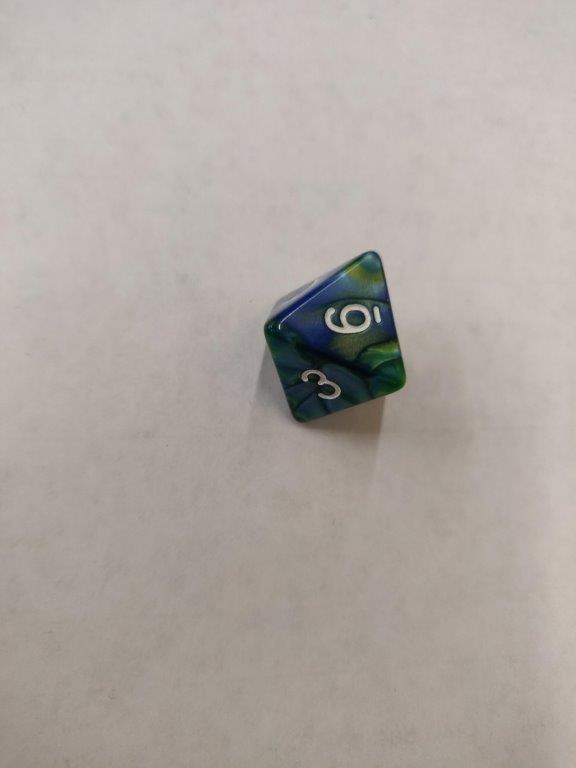d8-6: (264, 244, 410, 431)
